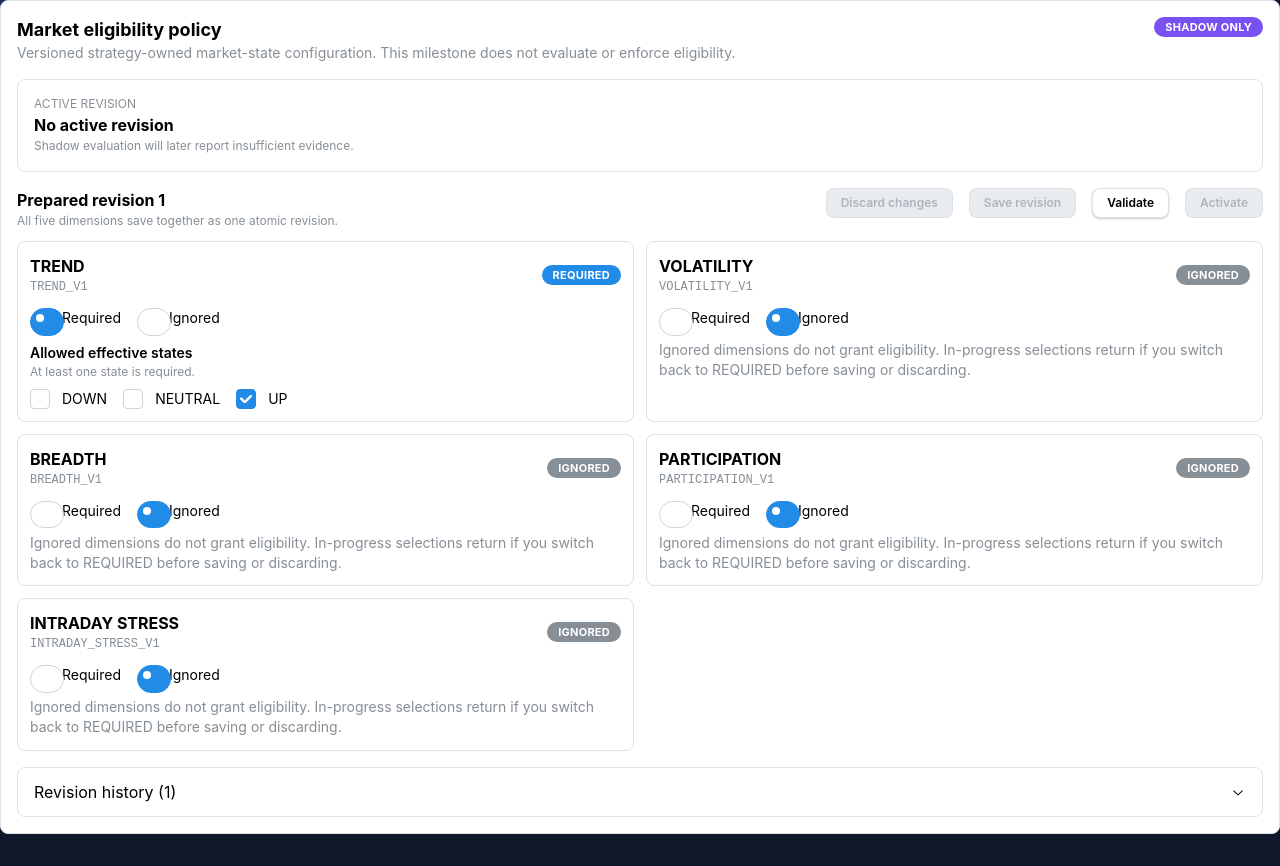
Test: StrategyMarketPolicyPanel › keeps activation disabled until backend validation succeeds and shows validation errors
Expected: the button "Activate" is disabled, top-left (1185, 188), bottom-right (1263, 218)
Step 1. Click the button "Validate" → click(1131, 203), box top-left (1092, 188), bottom-right (1169, 218)
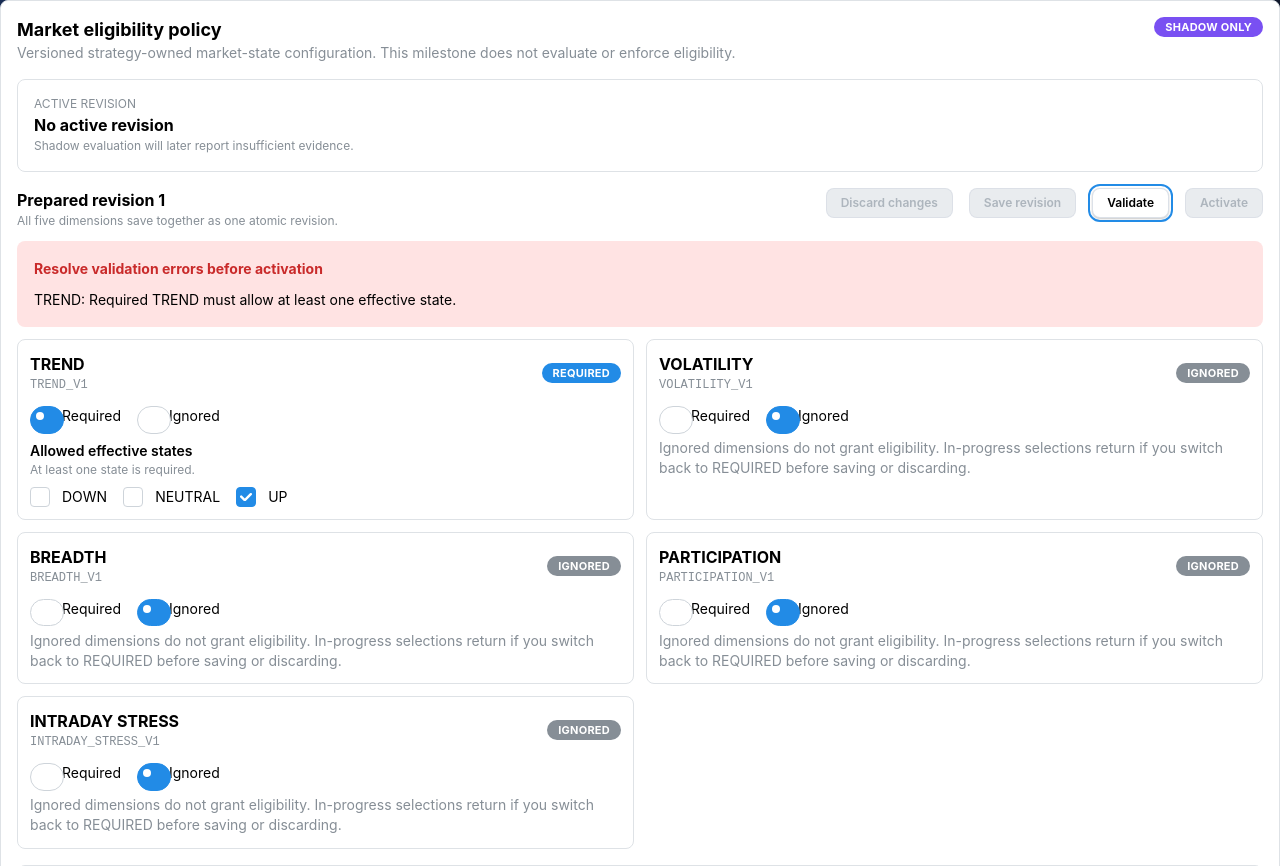
Expected: the button "Activate" is disabled, top-left (1185, 188), bottom-right (1263, 218)
Result: the text "Required TREND must allow" is shown at top-left (89, 291), bottom-right (456, 308)
